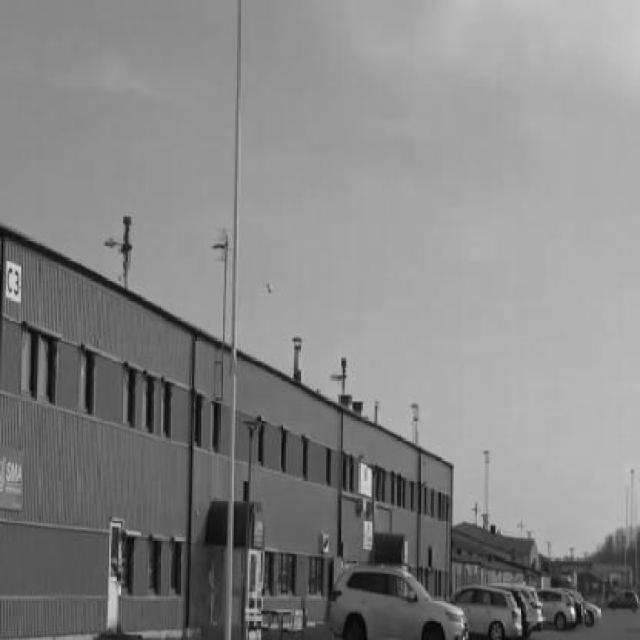helikopter: (264, 275, 273, 300)
